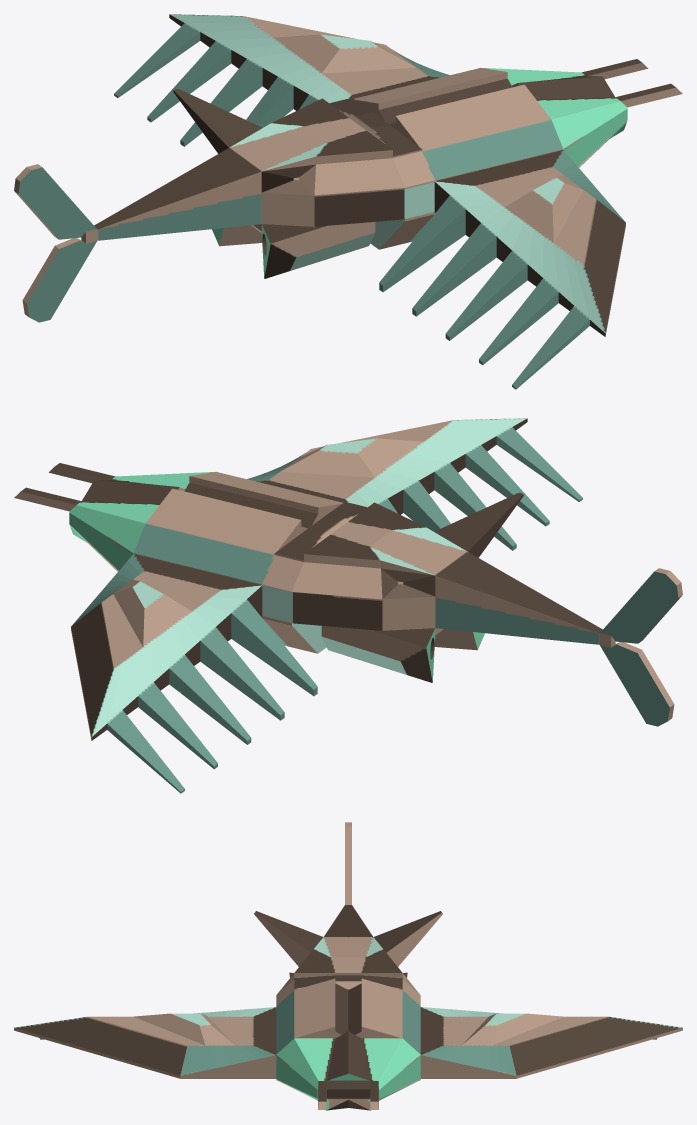
Rendered from SpaceShip#2.fbx.
The picture shows the model from 3 angles, top to bottom: view 1: azimuth 30°, elevation 25°; view 2: azimuth 150°, elevation 25°; view 3: azimuth 270°, elevation 25°; orthographic projection. The views are drawn at different scales.
Visible parts, largest first — view 1: SpaceShip #2; view 2: SpaceShip #2; view 3: SpaceShip #2.
Boxes of the visible parts, <box> form: SpaceShip #2: <box>14,14,682,389</box>; SpaceShip #2: <box>14,418,682,793</box>; SpaceShip #2: <box>14,822,682,1110</box>.
Size of the model in its own units: 4399 by 1003 by 5138.
